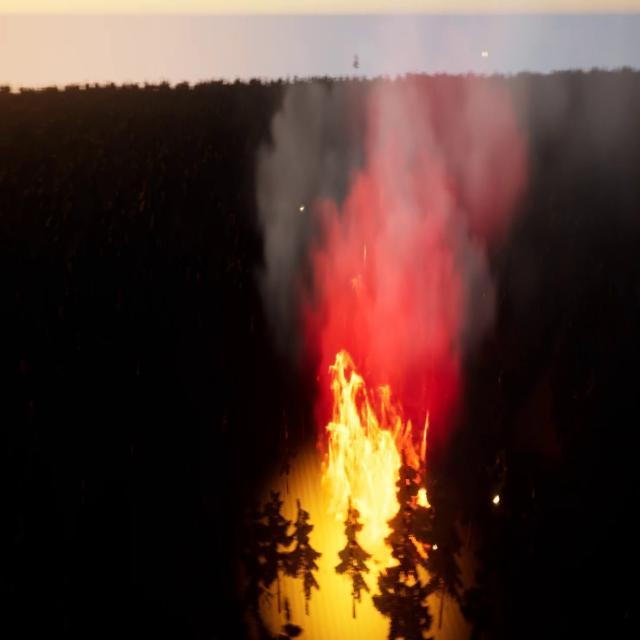fire: (319, 357, 445, 553)
smoke: (254, 19, 636, 436)
